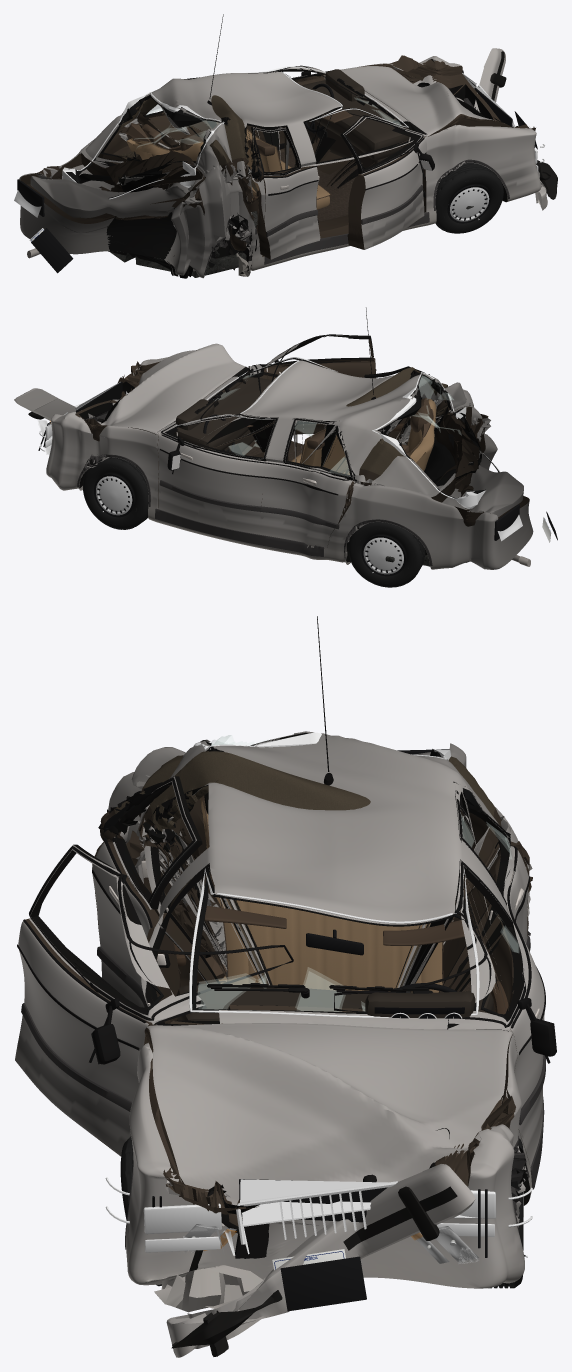
The model's file is sedan87_rear_corner_R_d3.glb.
The picture shows the model from 3 angles, top to bottom: view 1: azimuth 30°, elevation 25°; view 2: azimuth 150°, elevation 25°; view 3: azimuth 270°, elevation 25°; orthographic projection. The views are drawn at different scales.
Parts seen in each view (by area): view 1: Body, Interior, Door_FR, Trunk, Door_RR, Hood, Wheel_FR_mesh, Glass, Ends, Trim, Bumper_F, Trim_FR (+3 smaller); view 2: Body, Door_FL, Hood, Door_RL, Interior, Wheel_RL_mesh, Wheel_FL_mesh, Trim, Trunk, Glass, Door_FR, Trim_FL (+5 smaller); view 3: Body, Hood, Interior, Door_FR, Ends, Bumper_F, Door_RR, Door_FL, Glass, Trim_FR, Trim_FL, Trim (+4 smaller).
Part boxes in pixels (x1,y1,x2,y2): Body: (19,55,543,278); Interior: (126,69,409,209); Door_FR: (340,116,426,249); Trunk: (30,158,204,220); Door_RR: (248,127,320,259); Hood: (340,66,512,136); Wheel_FR_mesh: (435,163,503,233); Glass: (62,66,408,199); Ends: (14,70,544,273); Trim: (204,14,509,274); Bumper_F: (474,48,557,210); Trim_FR: (344,112,434,224); Body: (46,357,533,569); Door_FL: (157,414,278,534); Hood: (97,343,246,434); Door_RL: (258,418,355,549); Interior: (174,375,436,474); Wheel_RL_mesh: (348,522,425,587); Wheel_FL_mesh: (83,457,148,529); Trim: (77,307,432,565); Trunk: (434,406,523,517); Glass: (175,357,500,508); Door_FR: (248,335,375,434); Trim_FL: (159,396,277,511); Body: (108,731,532,1312); Hood: (144,1023,512,1233); Interior: (176,795,493,1025); Door_FR: (15,844,206,1156); Ends: (105,749,532,1311); Bumper_F: (166,1164,475,1357); Door_RR: (92,776,202,1022); Door_FL: (447,860,544,1166); Glass: (189,732,479,1017); Trim_FR: (17,846,293,1111); Trim_FL: (334,861,556,1125); Trim: (125,616,544,1249).
Size of the model in its own units: 4.81 by 2.15 by 2.24.
32 materials, 5 textured.
